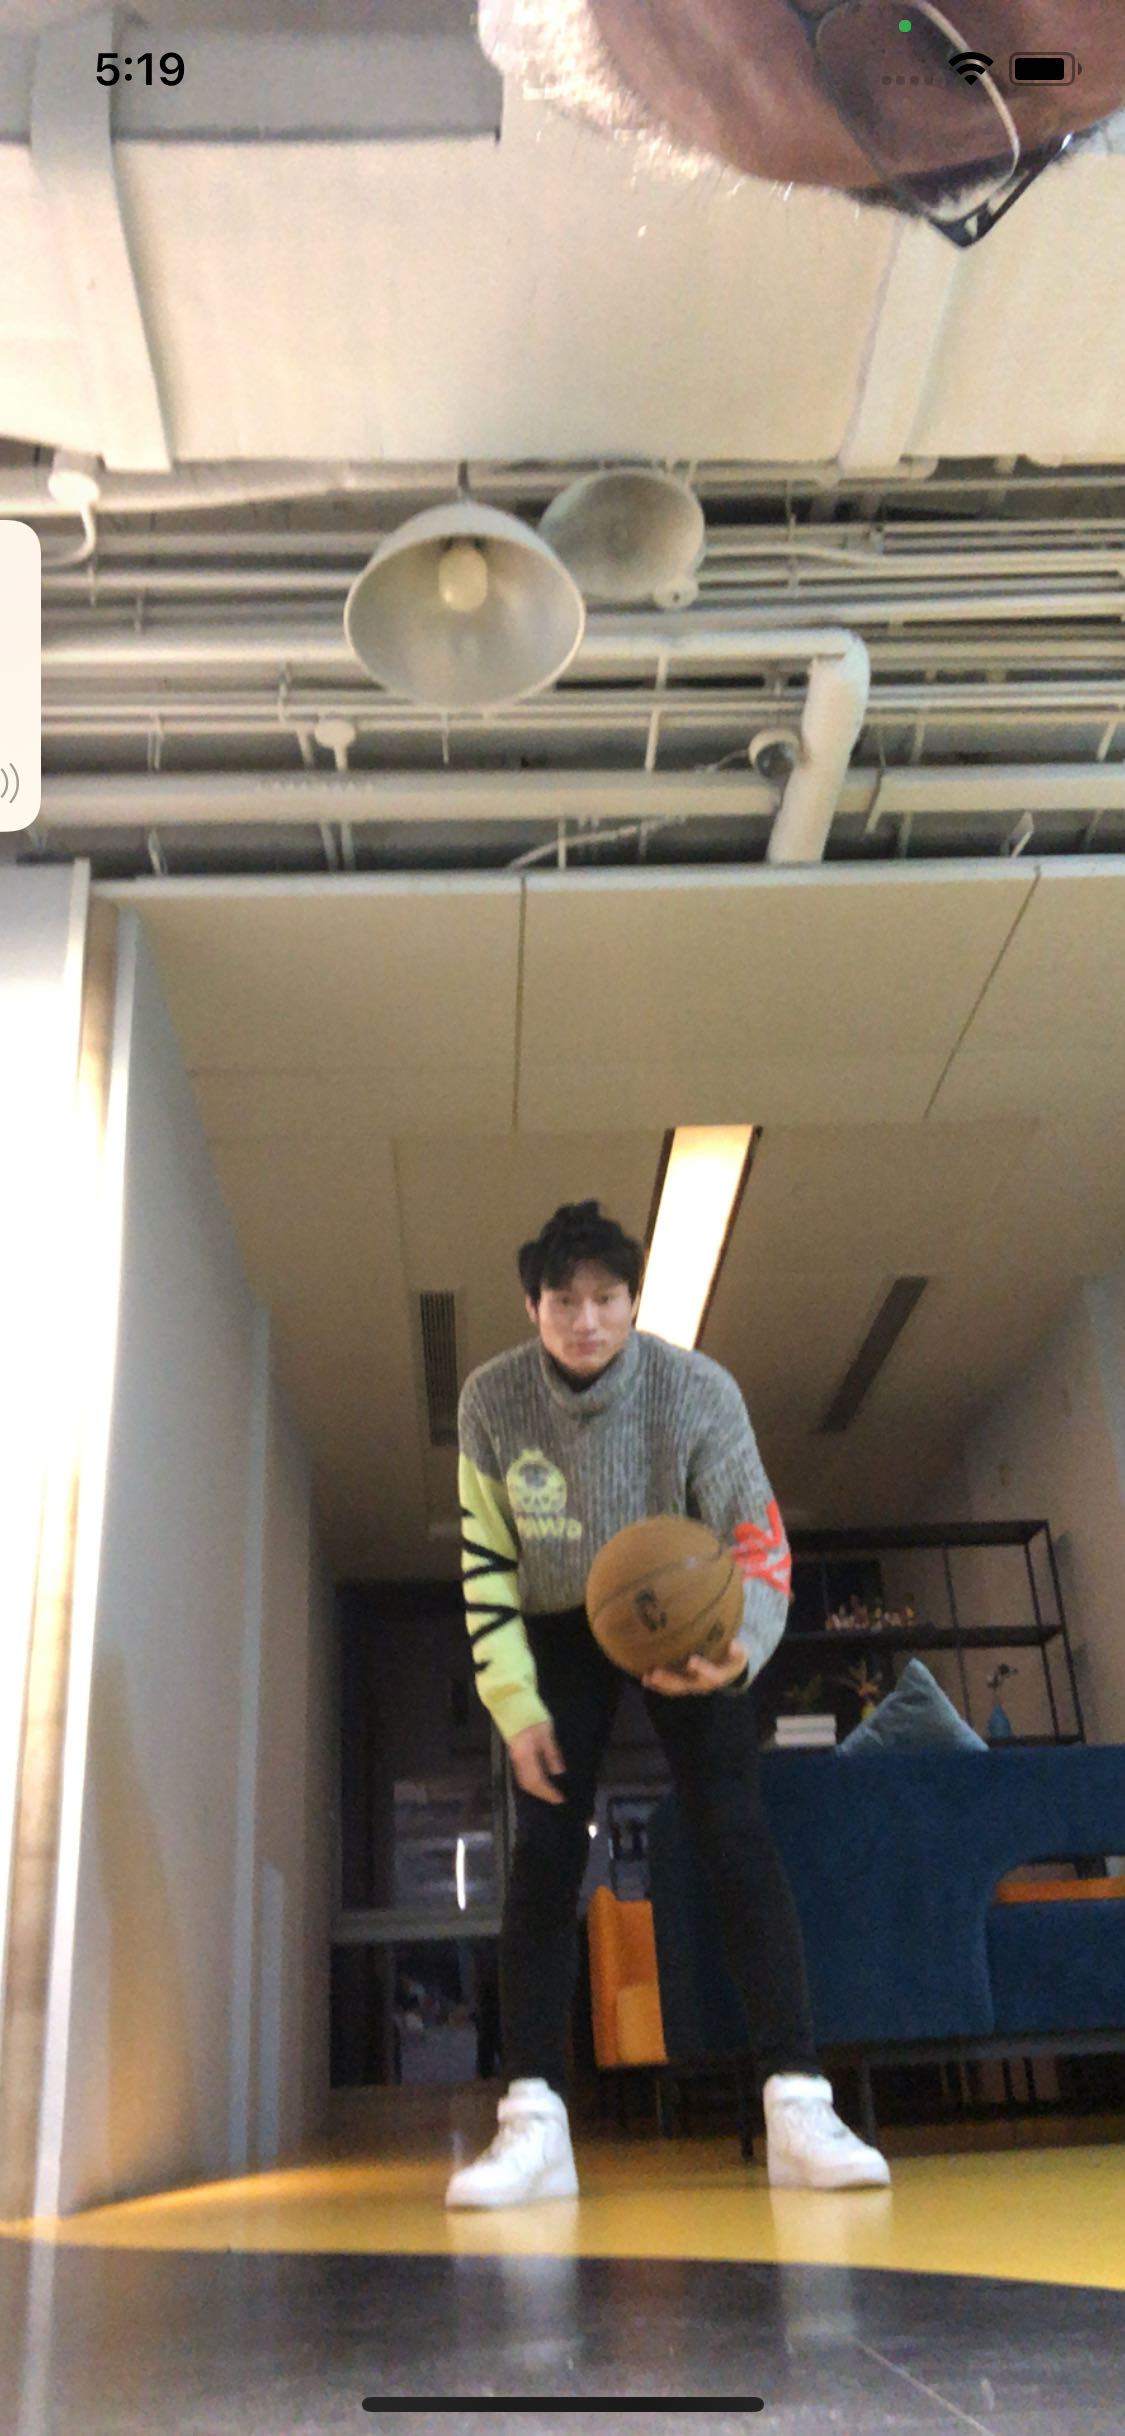ball: (587, 1515, 743, 1689)
